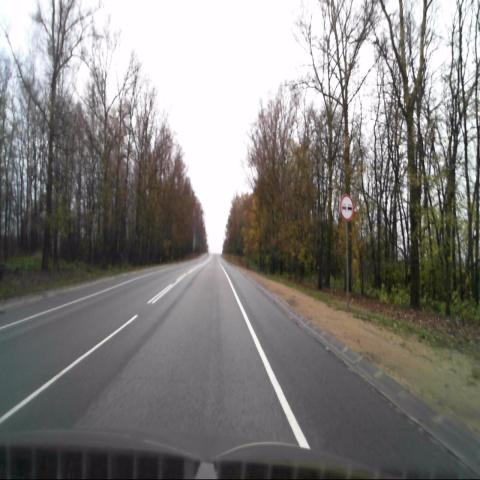3_20: (340, 195, 354, 220)
